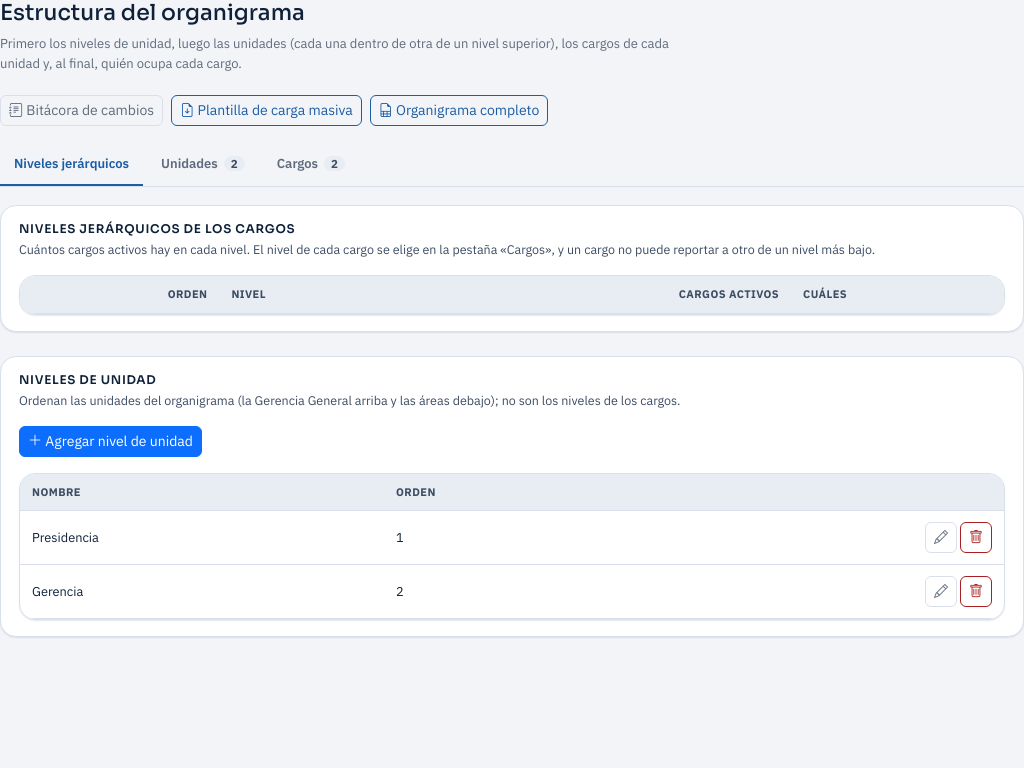
Test: La estructura › las plazas se cambian en la misma tabla
The width and height of the screenshot is (1024, 768).
Click the tab "Cargos2".
click(311, 165)  # box [263, 144, 359, 186]
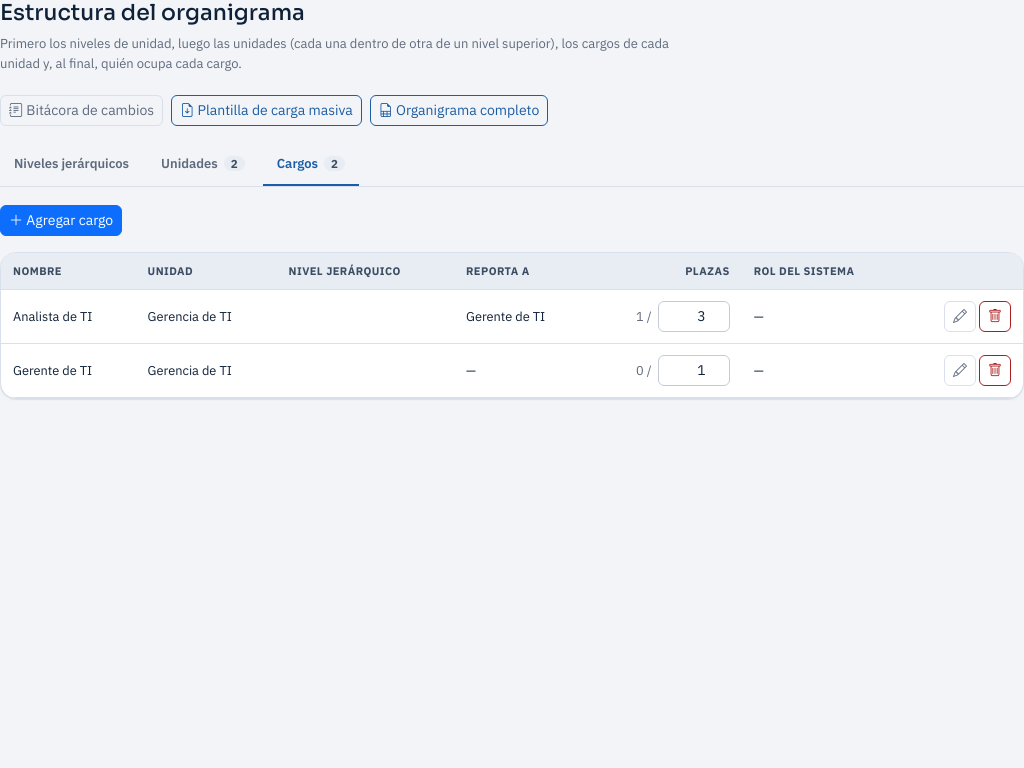
Expected: the number field named "Plazas de Analista de TI" holds "3"
Replace the text in the number field named "Plazas de Analista de TI" with "5" at coordinates (694, 317), box [658, 301, 730, 332]
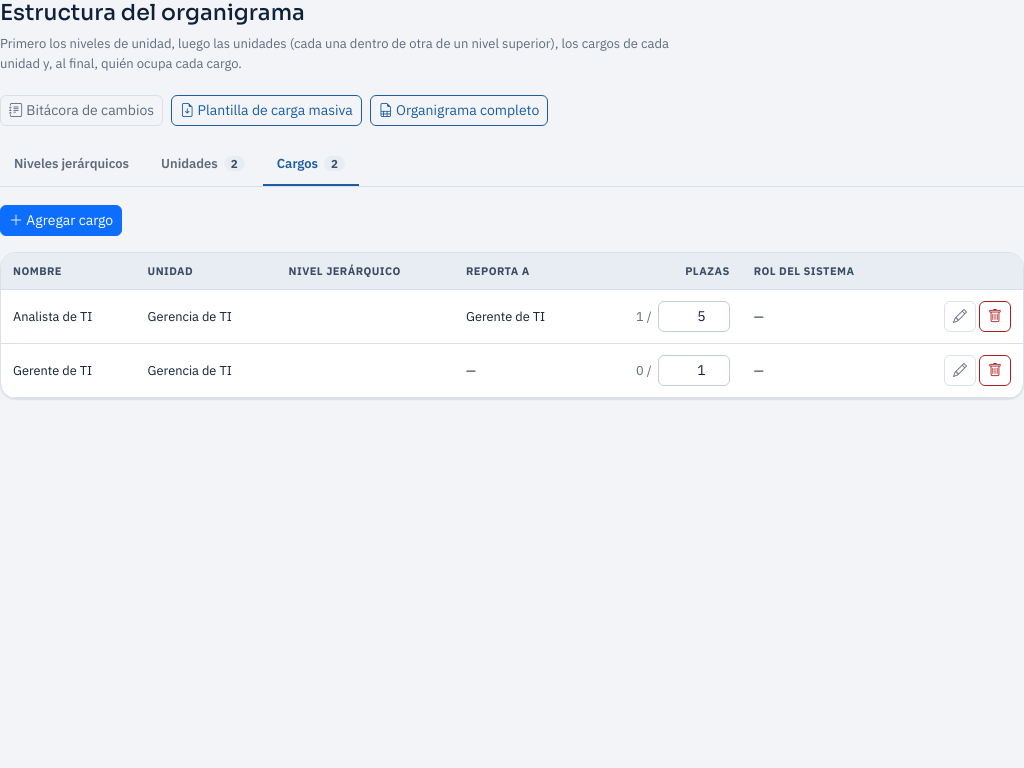
Press Enter in the number field named "Plazas de Analista de TI", box [658, 301, 730, 332]
Leave the number field named "Plazas de Analista de TI", box [658, 301, 730, 332]
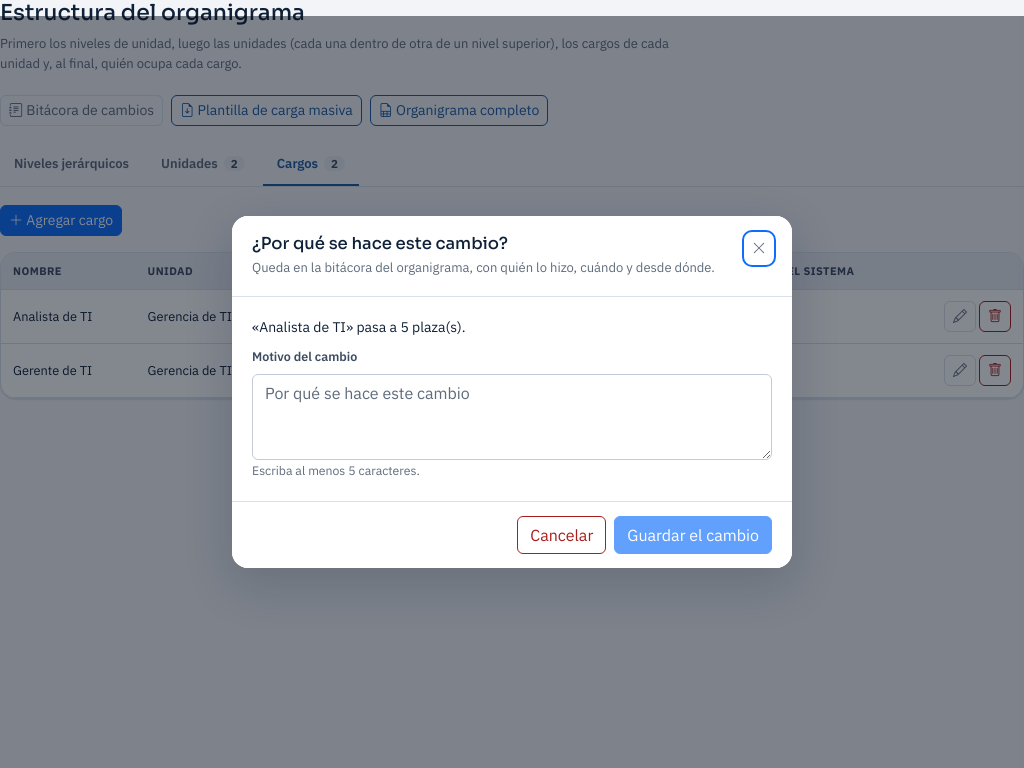
Type "Ajuste de prueba" into the text box labelled "Motivo del cambio".
click(512, 416); type("Ajuste de prueba")  # box [252, 374, 772, 460]
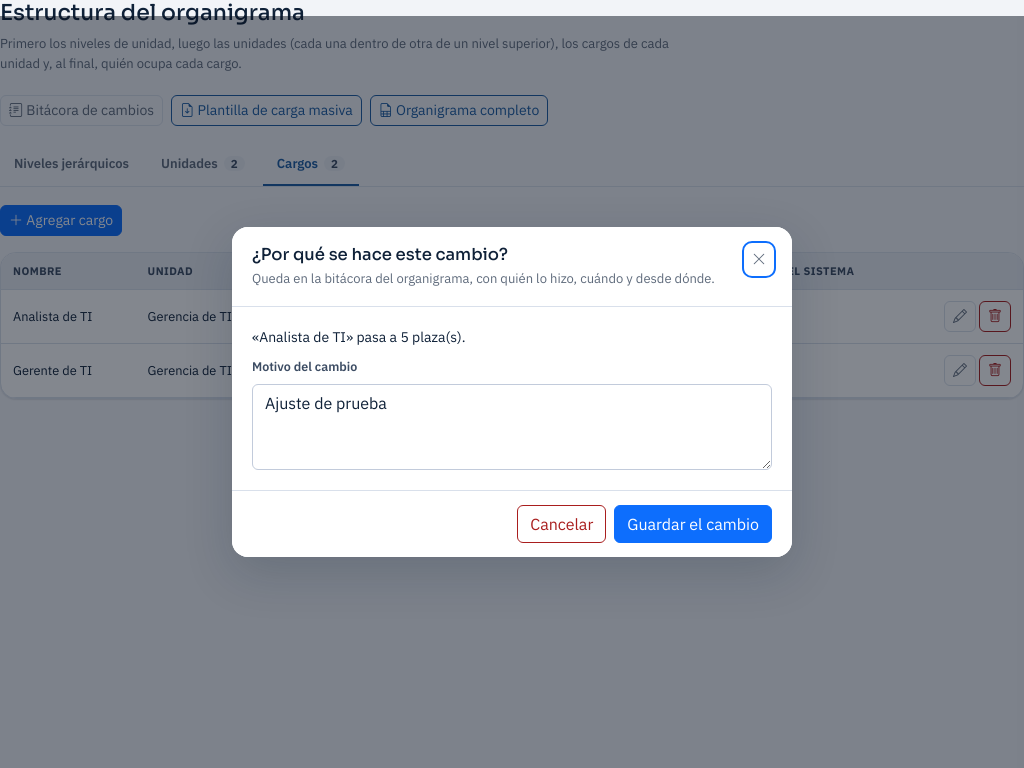
Click the button "Guardar el cambio".
click(693, 524)  # box [614, 505, 772, 543]
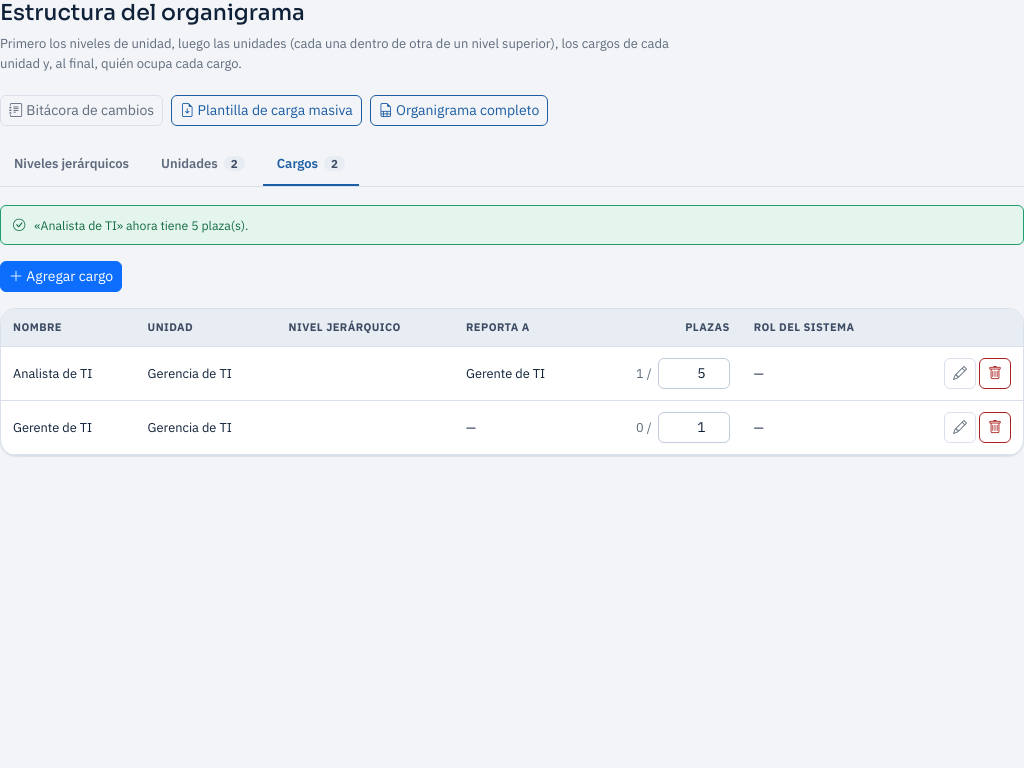
Expected: the text "«Analista de TI» ahora tiene 5 plaza(s)." is shown, [0, 205, 1023, 245]
